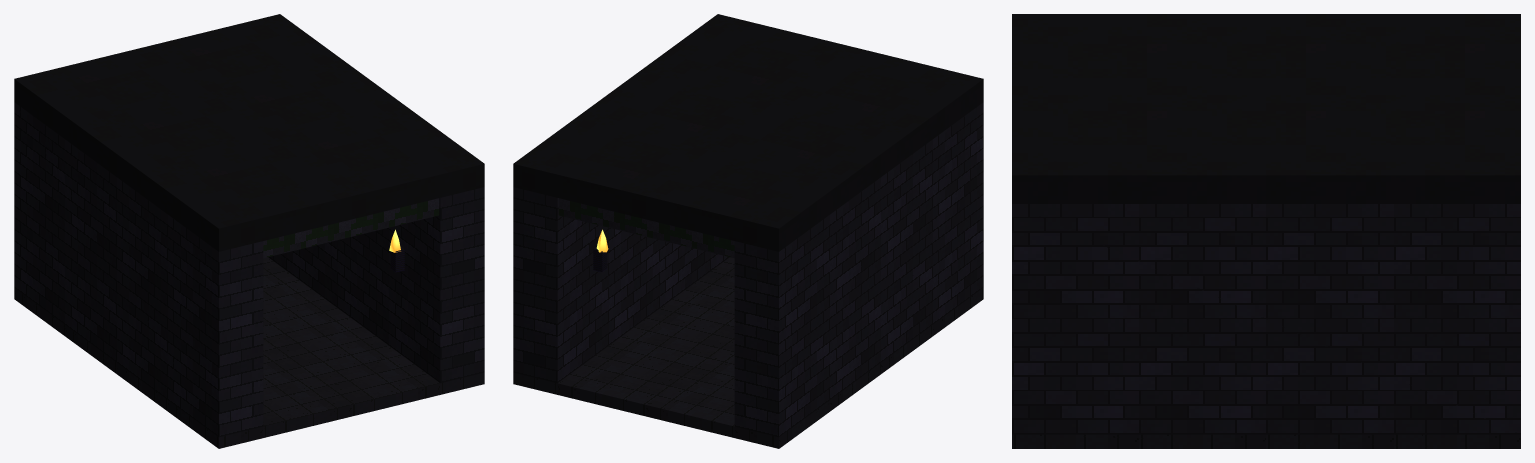
File: d_gang.glb
3 renders of one model, left to right at view 1: azimuth 30°, elevation 25°; view 2: azimuth 150°, elevation 25°; view 3: azimuth 270°, elevation 25°, orthographic. The views are drawn at different scales.
Parts seen in each view (by area): view 1: ceiling, wall-1, wall1, floor, arch7.5; view 2: ceiling, wall-1, wall1, floor, arch-7.5; view 3: wall1, ceiling, floor.
Boxes of the visible parts, left/top/right/bottom form: ceiling: left=14, top=14, right=484, bottom=251; wall-1: left=14, top=102, right=263, bottom=437; wall1: left=268, top=187, right=484, bottom=383; floor: left=14, top=257, right=484, bottom=448; arch7.5: left=263, top=198, right=439, bottom=258; ceiling: left=513, top=14, right=983, bottom=251; wall-1: left=734, top=102, right=983, bottom=437; wall1: left=513, top=187, right=729, bottom=383; floor: left=513, top=257, right=983, bottom=448; arch-7.5: left=558, top=198, right=734, bottom=258; wall1: left=1012, top=204, right=1520, bottom=434; ceiling: left=1012, top=14, right=1520, bottom=203; floor: left=1012, top=434, right=1520, bottom=448.
Size of the model in its own units: 12 by 9.5 by 16.
6 materials, 5 textured.
